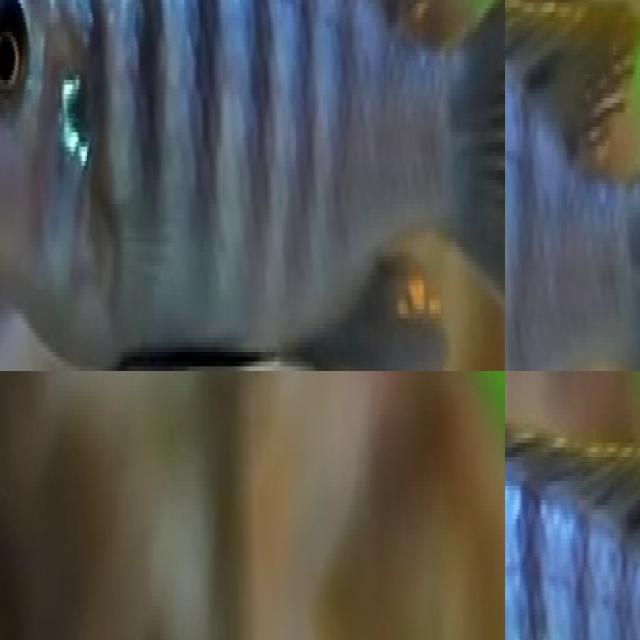fish: (0, 0, 505, 371), (505, 0, 640, 371), (505, 371, 640, 640)
